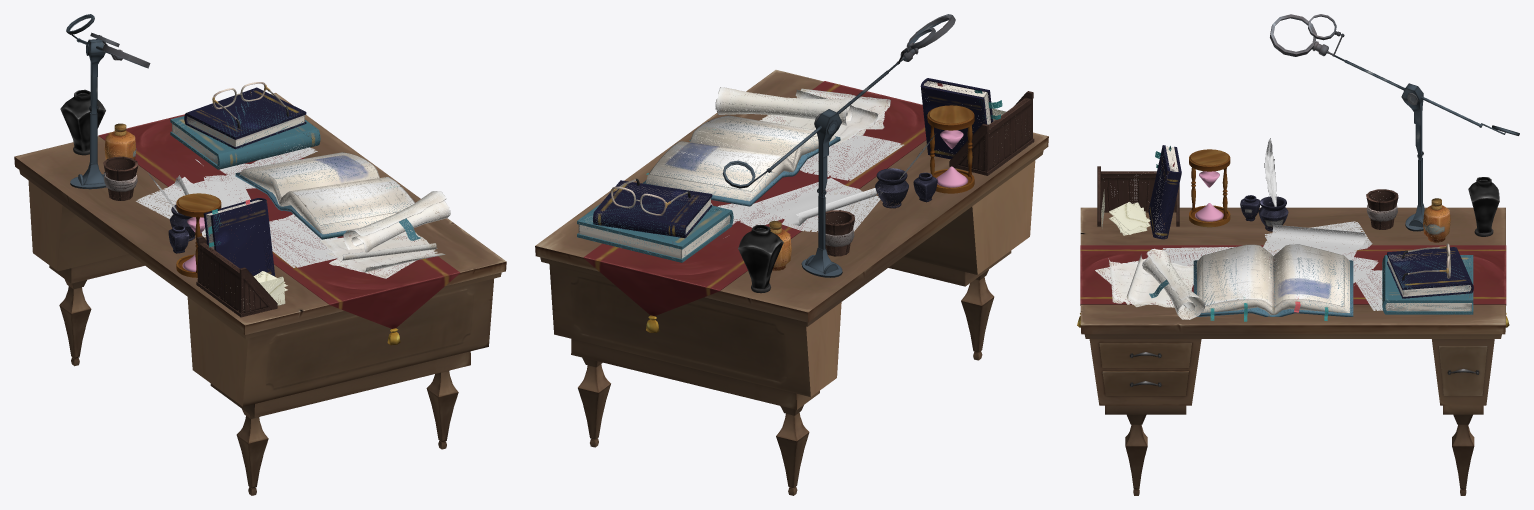
3 views of the same model, side by side, from view 1: azimuth 30°, elevation 25°; view 2: azimuth 150°, elevation 25°; view 3: azimuth 270°, elevation 25° (orthographic). The views are drawn at different scales.
Parts seen in each view (by area): view 1: Desk, Nappe, book_open_LP, Book.001, Book.004, Book.003, porte-lettres, sheets, Plane, loupe, sheets.001, sheets.002 (+5 smaller); view 2: Desk, Nappe, book_open_LP, Book.001, loupe, sheets.001, Book.003, porte-lettres, Book.004, Plane, sheets, sheets.002 (+6 smaller); view 3: Desk, book_open_LP, Drawers, Nappe, Book.001, loupe, sheets.001, Book.003, sheets, porte-lettres, Book.004, Plane (+10 smaller).
Boxes of the visible parts, box(x1,y1,x2,y2) form: Desk: box(14, 93, 506, 495); Nappe: box(98, 114, 459, 345); book_open_LP: box(235, 152, 414, 239); Book.001: box(184, 87, 306, 149); Book.004: box(203, 198, 275, 277); Book.003: box(170, 102, 320, 169); porte-lettres: box(196, 236, 277, 317); sheets: box(319, 230, 445, 278); Plane: box(343, 191, 450, 254); loupe: box(66, 14, 150, 189); sheets.001: box(136, 175, 255, 237); sheets.002: box(264, 214, 342, 267); Desk: box(535, 70, 1048, 495); Nappe: box(583, 81, 926, 333); book_open_LP: box(642, 115, 840, 206); Book.001: box(593, 180, 712, 238); loupe: box(722, 14, 955, 277); sheets.001: box(711, 178, 880, 231); Book.003: box(577, 193, 733, 262); porte-lettres: box(949, 91, 1034, 175); Book.004: box(920, 78, 994, 159); Plane: box(715, 87, 853, 125); sheets: box(759, 88, 890, 145); sheets.002: box(800, 135, 903, 180); Desk: box(1080, 207, 1505, 495); book_open_LP: box(1193, 244, 1353, 316); Drawers: box(1099, 342, 1487, 395); Nappe: box(1077, 245, 1509, 327); Book.001: box(1387, 247, 1473, 298); loupe: box(1270, 14, 1519, 231); sheets.001: box(1263, 221, 1378, 285); Book.003: box(1382, 255, 1473, 314); sheets: box(1095, 254, 1193, 307); porte-lettres: box(1097, 166, 1179, 226); Book.004: box(1148, 145, 1181, 239); Plane: box(1142, 248, 1205, 319).
Size of the model in its own units: 104 by 141 by 153.
4 materials, 4 textured.
